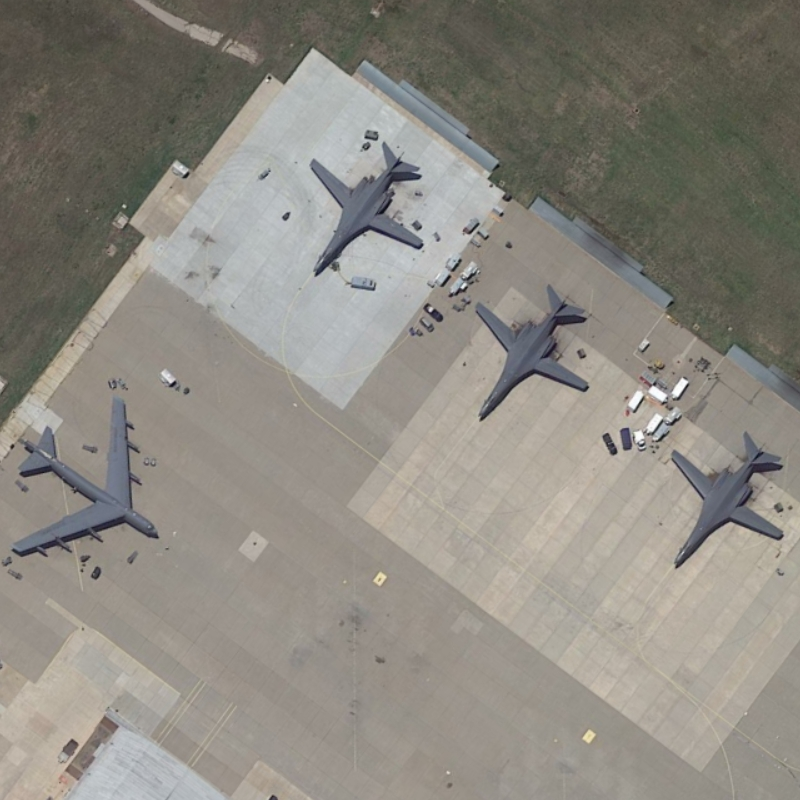A10: (658, 426, 791, 575), (470, 273, 591, 429), (301, 139, 432, 280)
A8: (9, 394, 166, 565)
